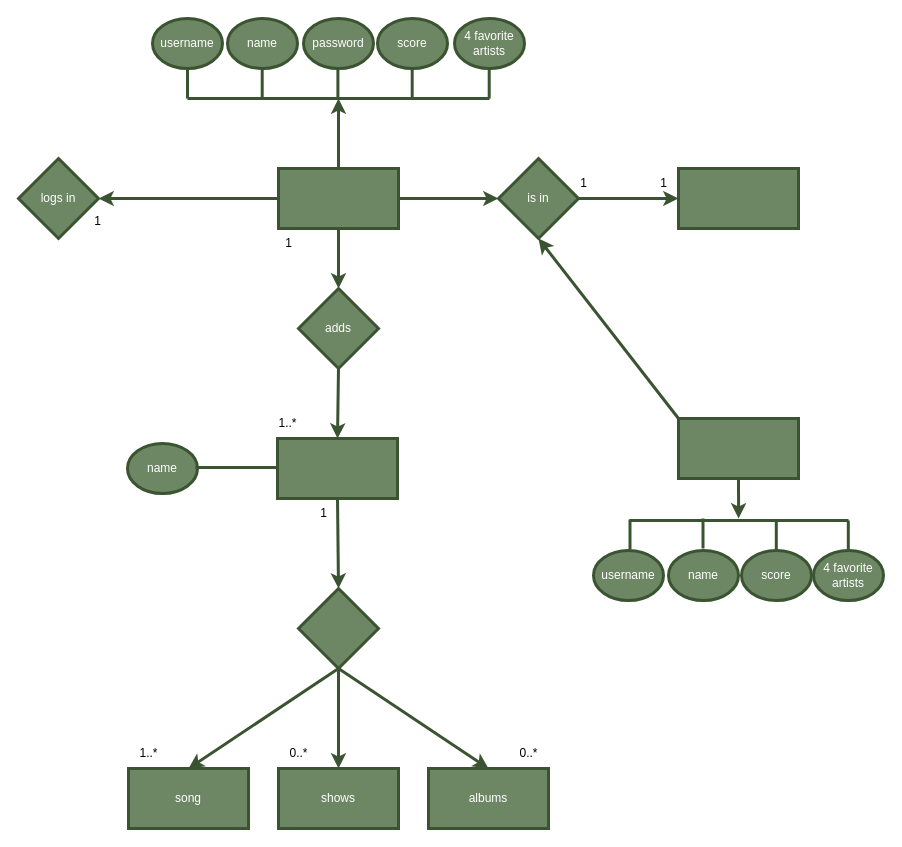
Image size: 902x847. Some labels were removed from this diagram. The centre of each missing label's shape, as x and y in pixels:
"artist" goes at pixel 337 468.
"friend" goes at pixel 738 448.
"has" goes at pixel 338 628.
"leaderboard" goes at pixel 738 198.
"user" goes at pixel 338 198.
